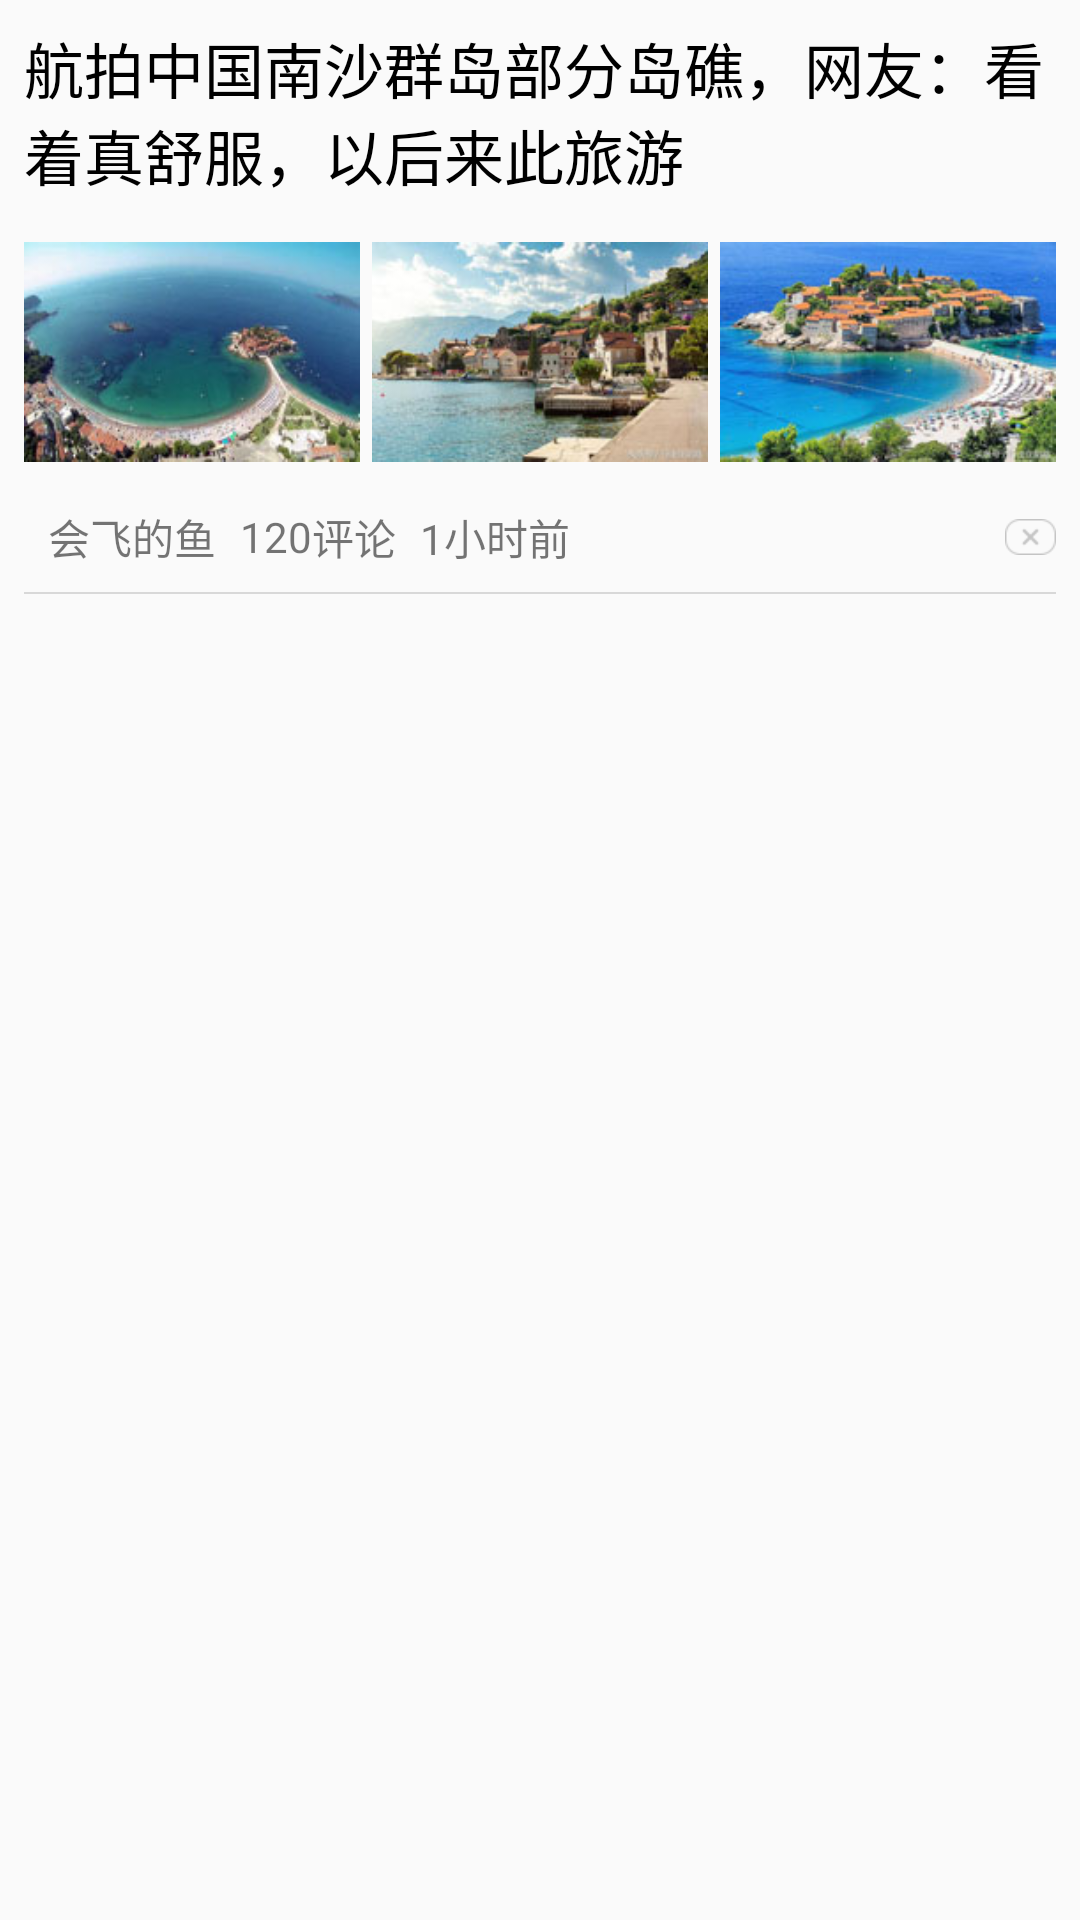

Named icons in this screenshot (1080*1920) and their centers, (x=x, y=y):
list cell delete: (x=1030, y=537)
